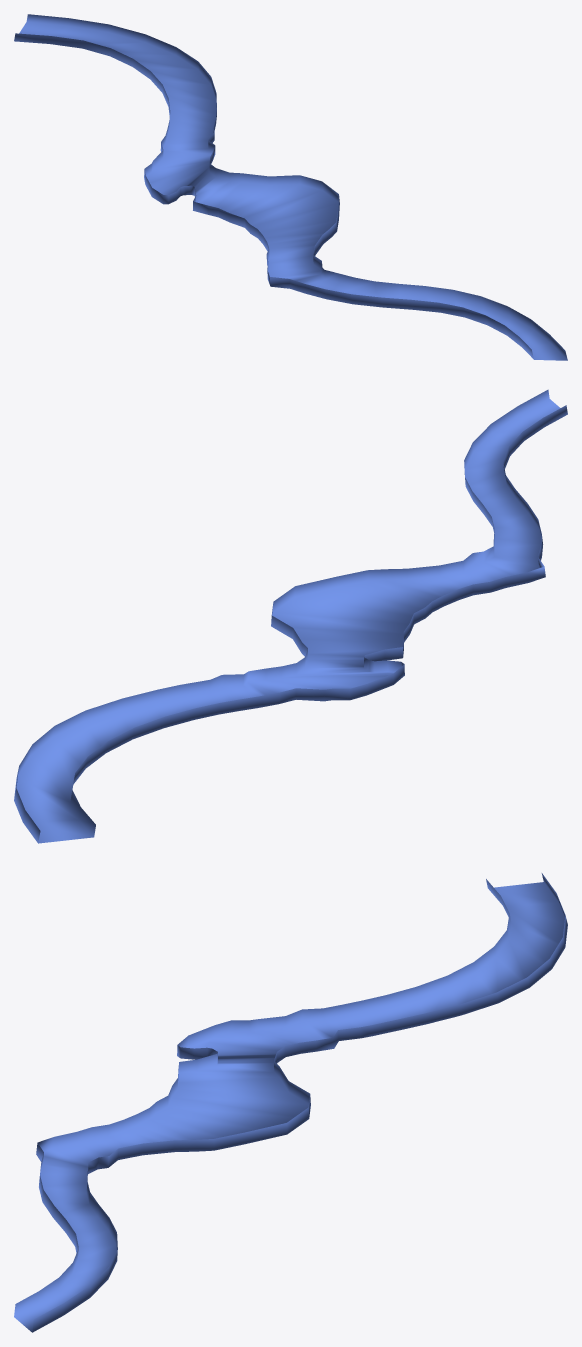
File: River_bottom.fbx
3 renders of one model, top to bottom at view 1: azimuth 30°, elevation 25°; view 2: azimuth 150°, elevation 25°; view 3: azimuth 330°, elevation 25°, orthographic. The views are drawn at different scales.
Parts seen in each view (by area): view 1: Outside Map PostRiver.001; view 2: Outside Map PostRiver.001; view 3: Outside Map PostRiver.001.
Boxes of the visible parts, x1,y1,x2,y2 form: Outside Map PostRiver.001: [14, 14, 567, 360]; Outside Map PostRiver.001: [14, 389, 567, 843]; Outside Map PostRiver.001: [14, 873, 567, 1332].
Bounding box in the file's own units: 816 × 57 × 4095.
